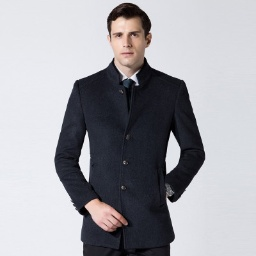face: (105, 2, 153, 66)
